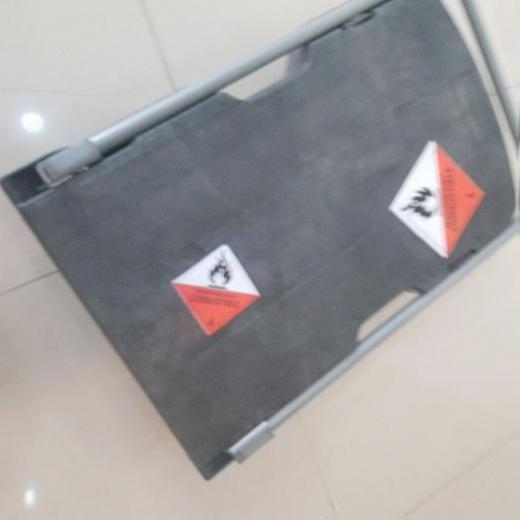spontaneously-combustible: (386, 138, 484, 262), (172, 242, 270, 348)
